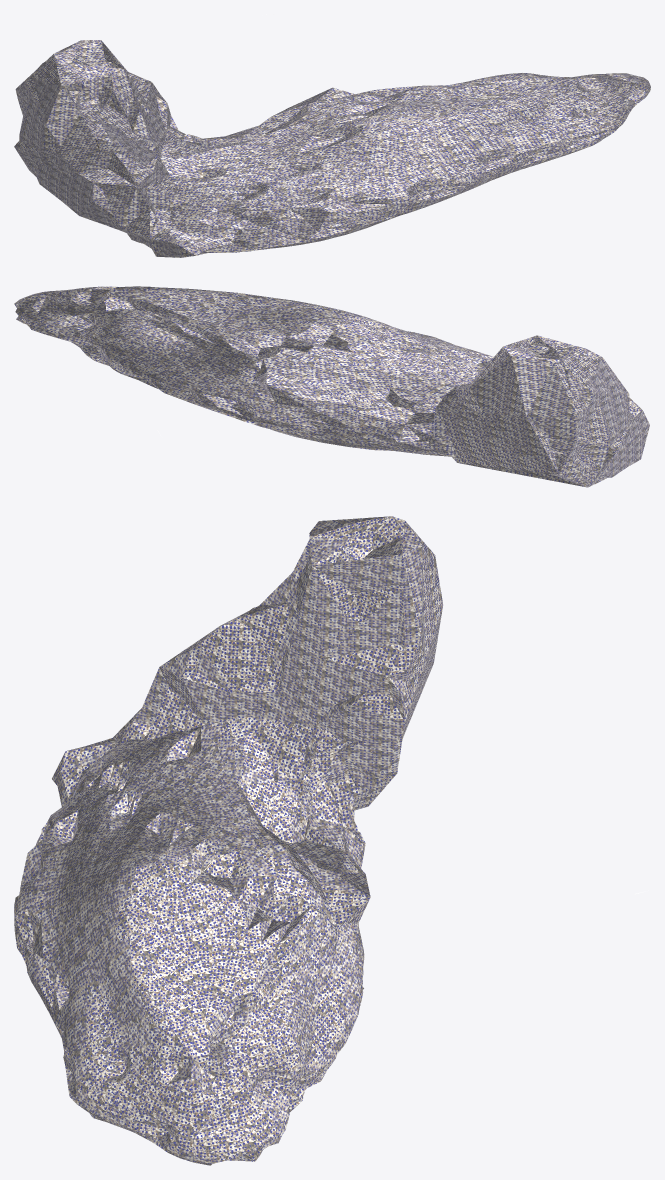
File: Azul.glb
3 renders of one model, top to bottom at view 1: azimuth 30°, elevation 25°; view 2: azimuth 150°, elevation 25°; view 3: azimuth 270°, elevation 25°, orthographic. The views are drawn at different scales.
Visible parts, largest first — view 1: Group1; view 2: Group1; view 3: Group1.
Part boxes in pixels (<box>): Group1: <box>14,14,650,257</box>; Group1: <box>14,286,649,487</box>; Group1: <box>14,516,648,1165</box>.
Bounding box in the file's own units: 2.25 × 0.6155 × 1.25.
Materials: 20 (19 with a texture image).
